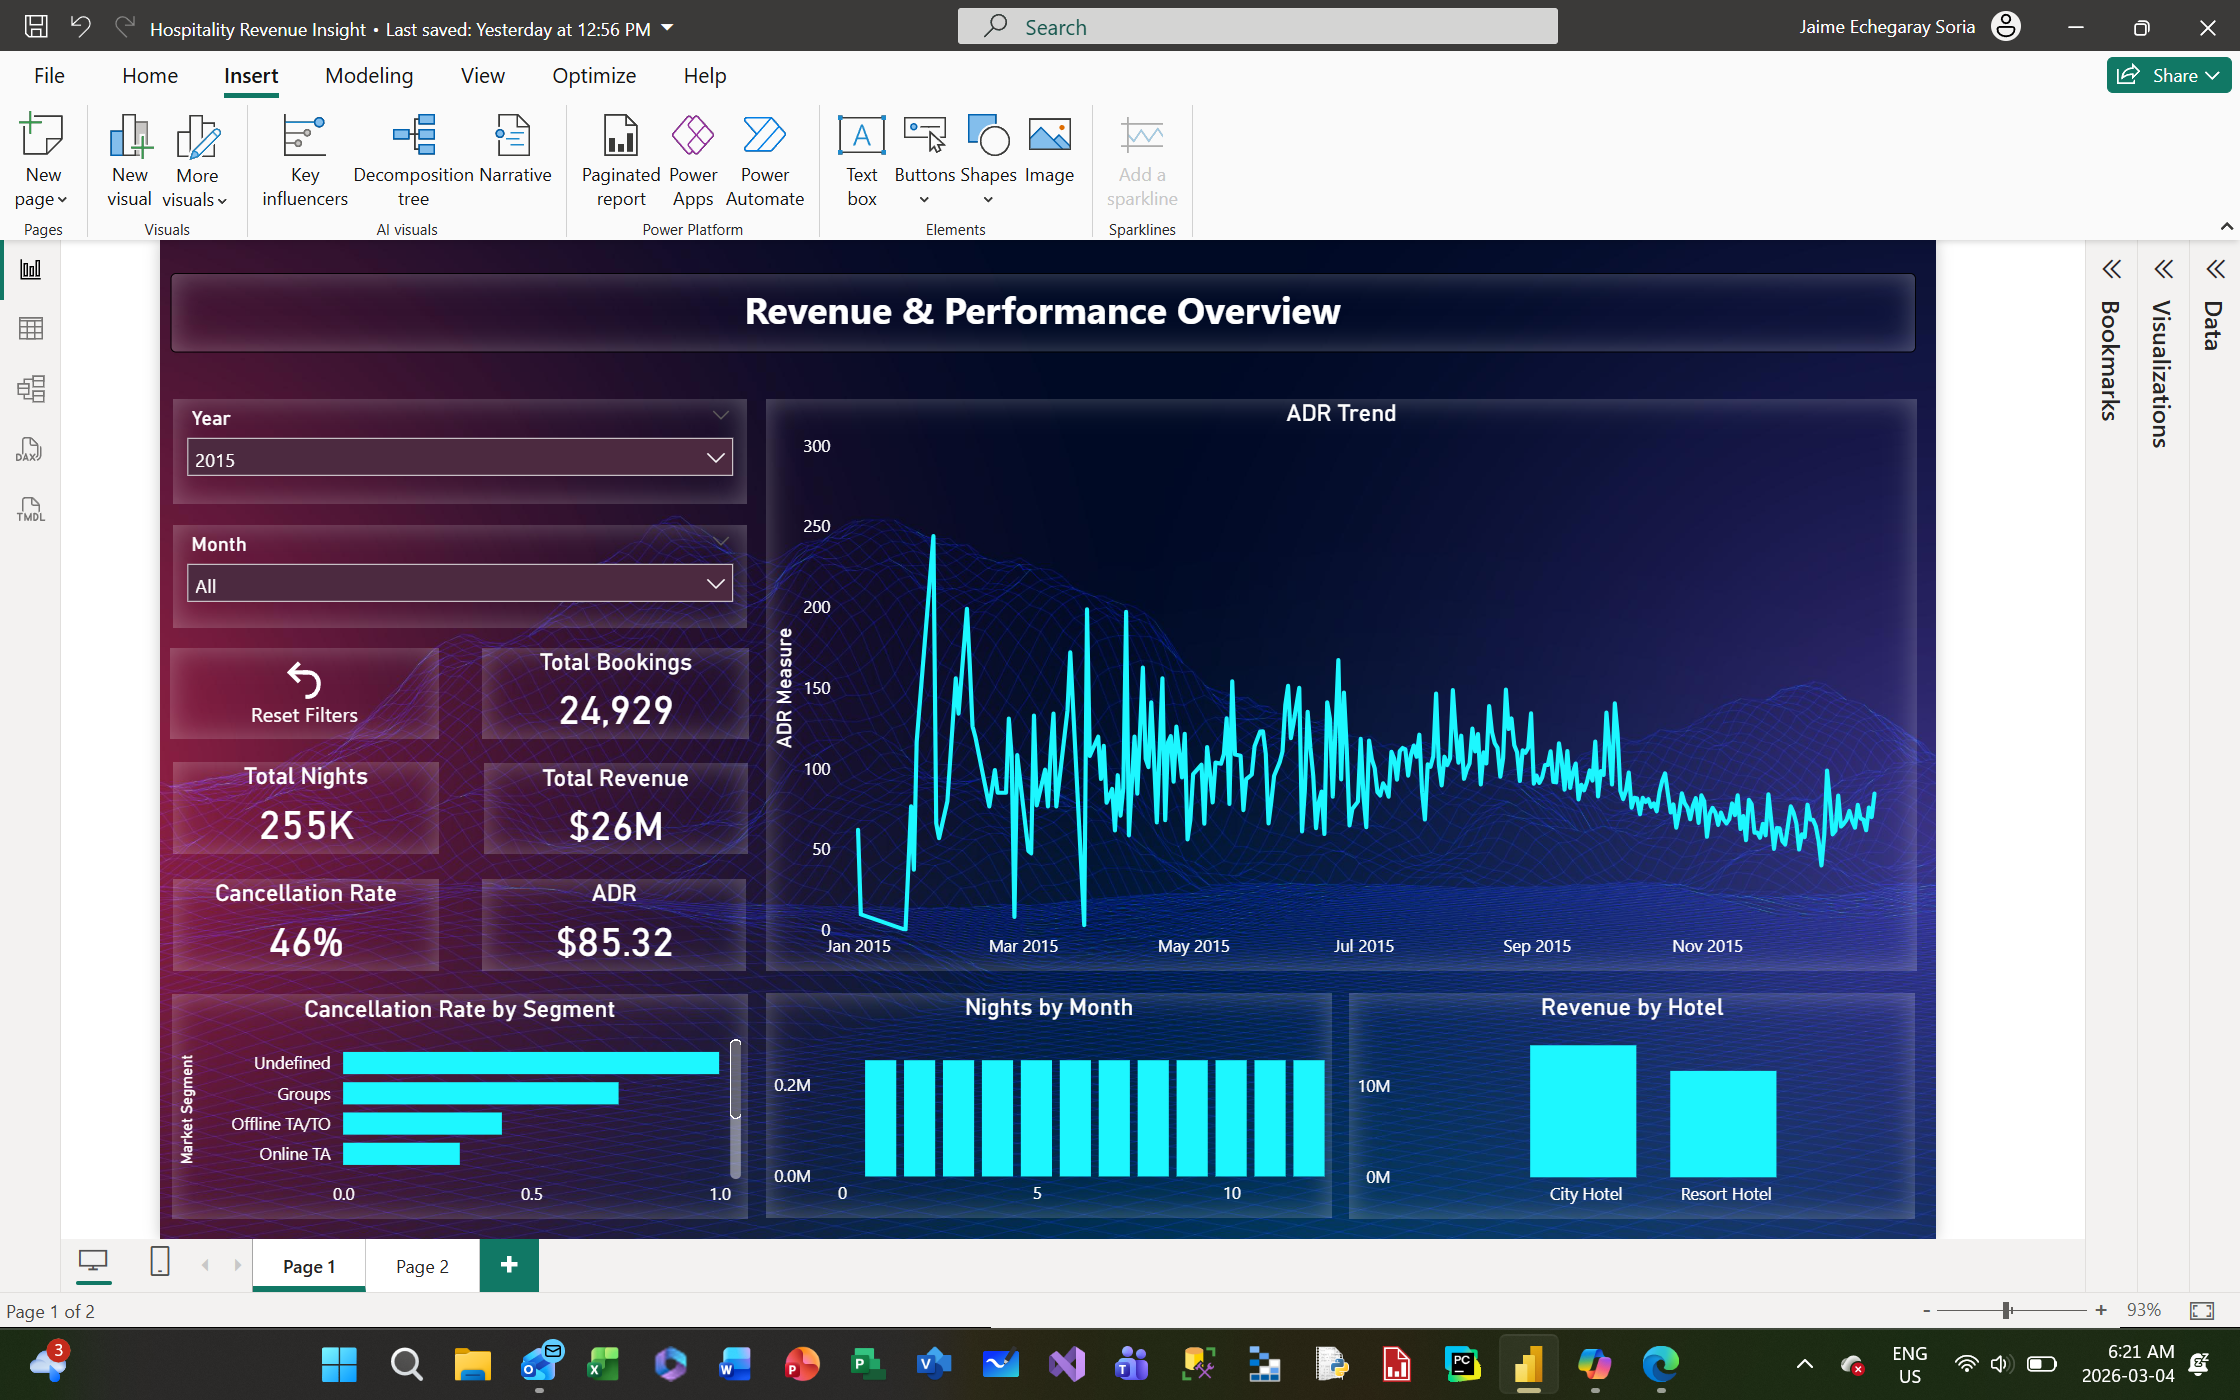

Layout of this report page (visuals, bound fields, positions):
{"tool":"powerbi","page":{"name":"Revenue overview","canvas":[1280,720],"ordinal":0},"visuals":[{"type":"card","title":"Total Revenue","fields":{"Values":["Fact_Bookings.Total Revenue Measure"]},"box":[233.3,377.8,190,65.6],"z":0},{"type":"card","title":"ADR","fields":{"Values":["Fact_Bookings.ADR Measure"]},"box":[232.2,460,190,66.7],"z":1000},{"type":"card","title":"Total Nights","fields":{"Values":["Fact_Bookings.Total Nights Measure"]},"box":[10,376.7,191.1,66.7],"z":2000},{"type":"card","title":"Total Bookings","fields":{"Values":["Fact_Bookings.Total Bookings Measure"]},"box":[232.2,294.4,192.2,65.6],"z":3000},{"type":"card","title":"Cancellation Rate","fields":{"Values":["Fact_Bookings.Cancellation Rate Measure"]},"box":[10,460,191.1,66.7],"z":4000},{"type":"lineChart","title":"ADR Trend","fields":{"Y":["Fact_Bookings.ADR Measure"],"Category":["Date.Date"]},"box":[436.4,114.6,829.6,412.3],"z":5000},{"type":"slicer","fields":{"Values":["Date.Year"]},"box":[9.5,114.5,413.5,75.3],"z":6000},{"type":"clusteredColumnChart","title":"Revenue by Hotel","fields":{"Category":["vw_Revenue.hotel"],"Y":["Fact_Bookings.Total Revenue Measure"]},"box":[857.5,542.5,407.5,162.5],"z":7000},{"type":"columnChart","title":"Nights by Month","fields":{"Y":["Fact_Bookings.Total Nights Measure"],"Category":["Date.Month Number"]},"box":[436.4,543,408.3,161.9],"z":8000},{"type":"barChart","title":"Cancellation Rate by Segment","fields":{"Category":["Fact_Bookings.market_segment"],"Y":["Fact_Bookings.Cancellation Rate Measure"]},"box":[8.3,543.3,415,161.7],"z":9000},{"type":"slicer","fields":{"Values":["Date.Month"]},"box":[9.5,205.7,413.5,74.2],"z":10000},{"type":"textbox","box":[8,24.1,1258,57.3],"z":11000},{"type":"actionButton","box":[7.8,294.4,193.3,65.6],"z":12000}]}

Visuals, with their boxes on the page's 1280x720 design canvas (x1, y1, x2, y2). These are canvas units, not pixel positions in the 2240x1400 screenshot, which may show the page scaled, cropped or inside an application window:
"Total Revenue" card: [x1=233, y1=378, x2=423, y2=443]
"ADR" card: [x1=232, y1=460, x2=422, y2=527]
"Total Nights" card: [x1=10, y1=377, x2=201, y2=443]
"Total Bookings" card: [x1=232, y1=294, x2=424, y2=360]
"Cancellation Rate" card: [x1=10, y1=460, x2=201, y2=527]
"ADR Trend" lineChart: [x1=436, y1=115, x2=1266, y2=527]
slicer - Date.Year: [x1=10, y1=114, x2=423, y2=190]
"Revenue by Hotel" clusteredColumnChart: [x1=858, y1=542, x2=1265, y2=705]
"Nights by Month" columnChart: [x1=436, y1=543, x2=845, y2=705]
"Cancellation Rate by Segment" barChart: [x1=8, y1=543, x2=423, y2=705]
slicer - Date.Month: [x1=10, y1=206, x2=423, y2=280]
textbox: [x1=8, y1=24, x2=1266, y2=81]
actionButton: [x1=8, y1=294, x2=201, y2=360]
